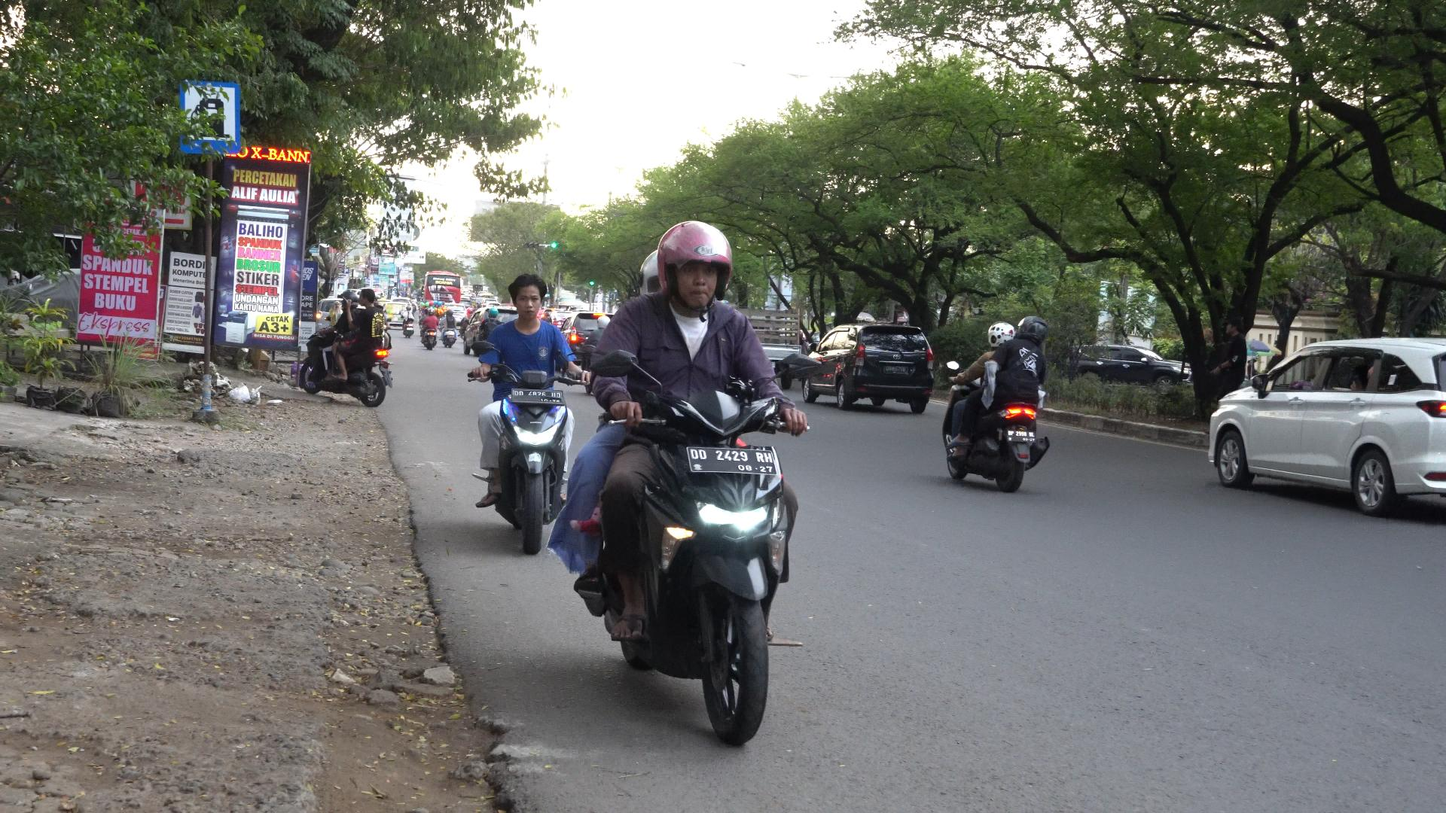number-plate: (687, 440, 780, 474), (513, 384, 569, 406)
